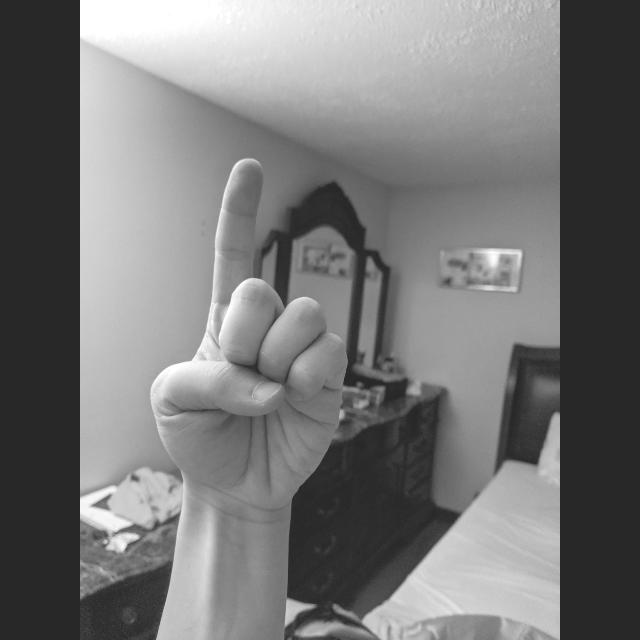D: (147, 155, 353, 509)
